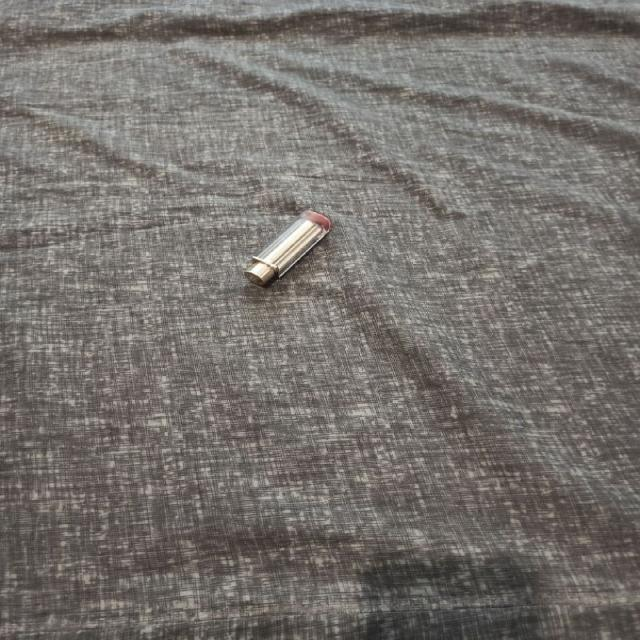lipstick: (242, 209, 331, 286)
